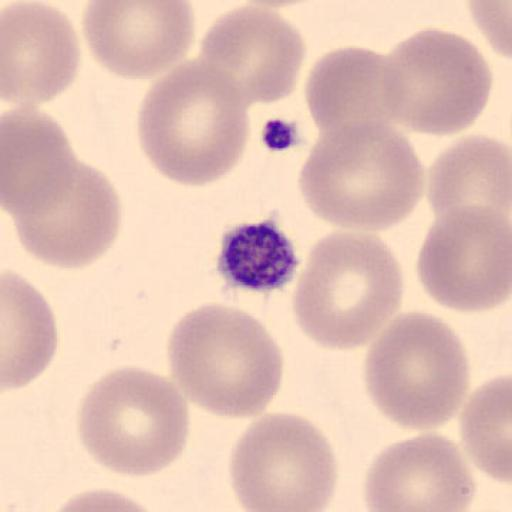Platelet: (214, 216, 302, 295)
RBC: (135, 58, 252, 189), (296, 118, 426, 233), (164, 301, 285, 421), (290, 228, 405, 352), (361, 309, 471, 433), (75, 363, 192, 479), (380, 26, 494, 138), (8, 159, 123, 270), (194, 3, 308, 108), (228, 410, 338, 512), (304, 44, 408, 149), (415, 202, 511, 314), (361, 431, 477, 512), (81, 0, 196, 80), (426, 132, 512, 237), (1, 0, 81, 109), (2, 106, 78, 217), (2, 269, 58, 391), (459, 372, 512, 486), (46, 486, 160, 512), (468, 0, 512, 62)
